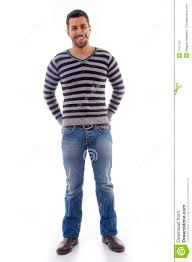standing: (38, 7, 142, 257)
